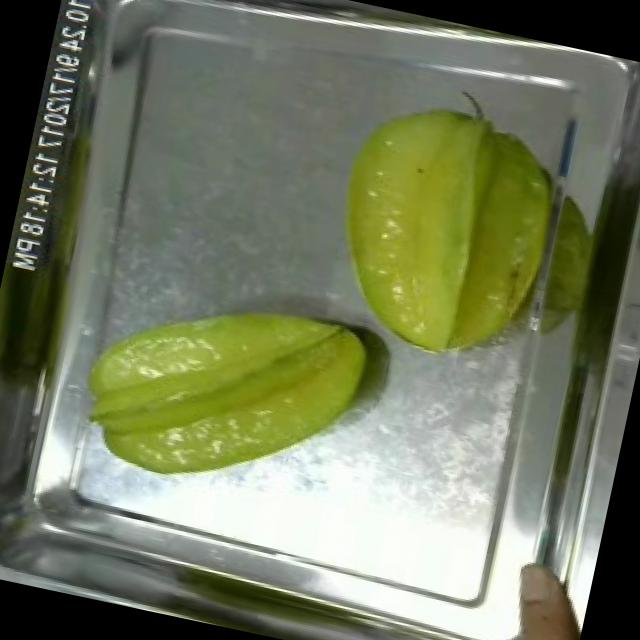fruit: (302, 72, 590, 382), (62, 262, 380, 516), (488, 549, 595, 640)
